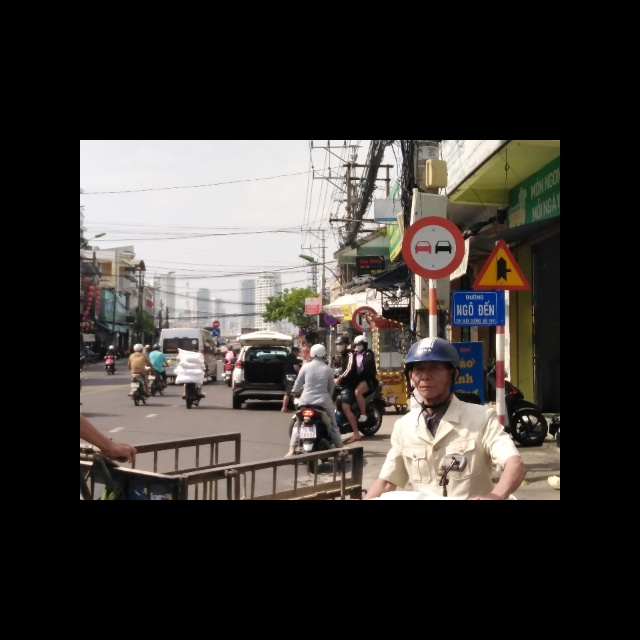Cấm vượt: (403, 215, 468, 280)
Giao nhau với đường không ưu tiên: (471, 233, 530, 289)
